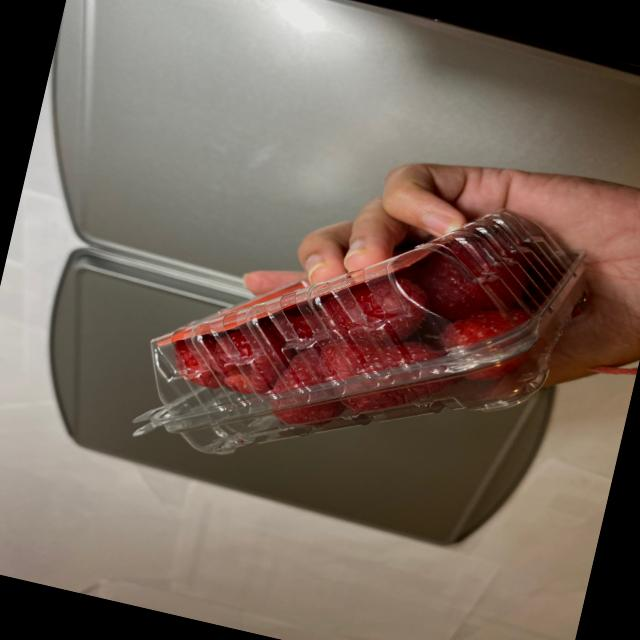raspberries: (150, 172, 566, 490)
